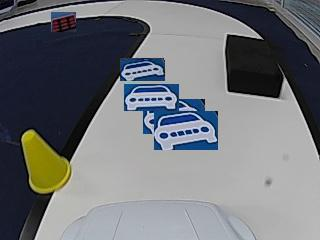block: (226, 34, 282, 98)
cone: (22, 131, 71, 193)
